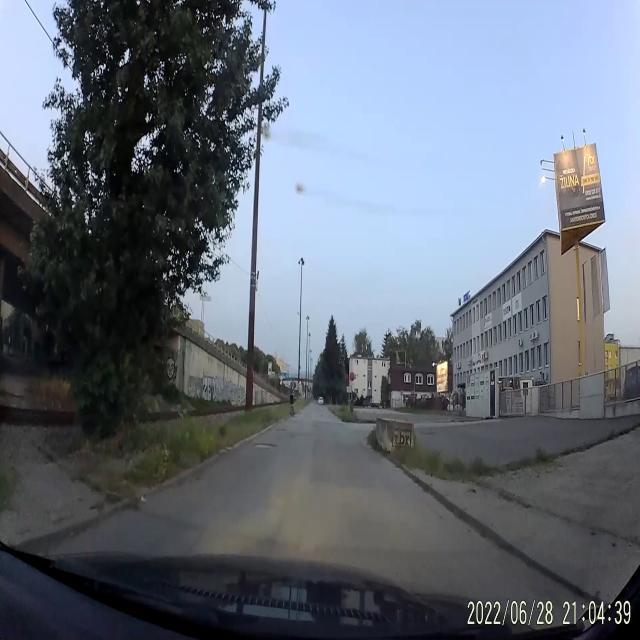Pothole: (252, 441, 278, 452)
